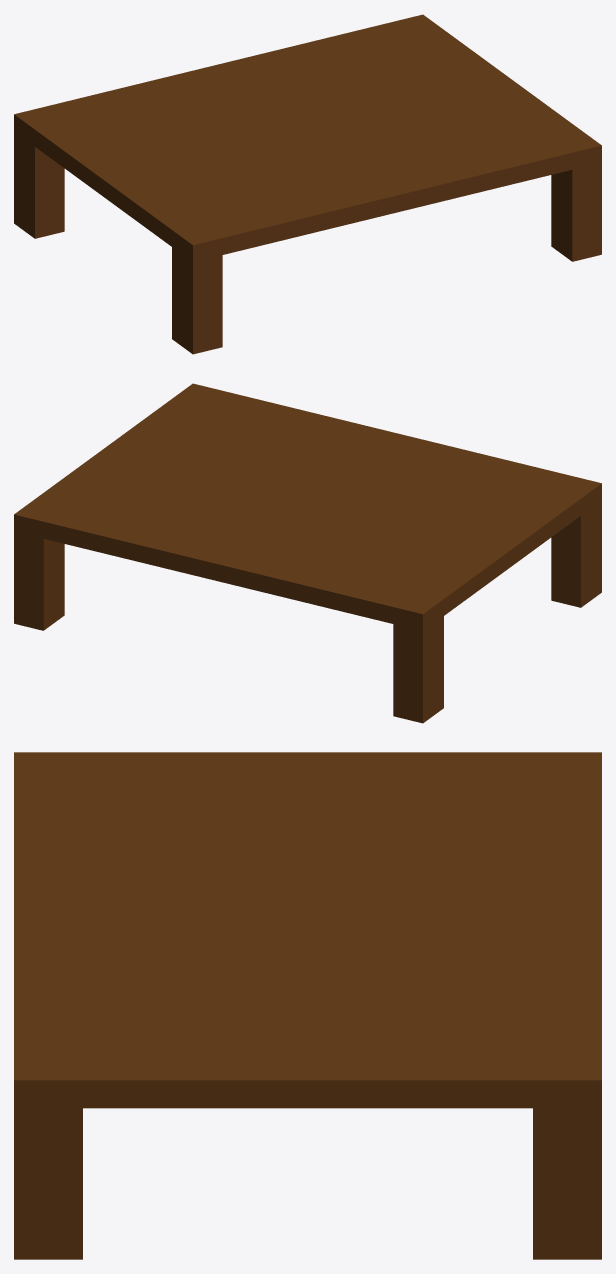
The model's file is bigtable.fbx.
3 renders of one model, top to bottom at view 1: azimuth 30°, elevation 25°; view 2: azimuth 150°, elevation 25°; view 3: azimuth 270°, elevation 25°, orthographic. The views are drawn at different scales.
Visible parts, largest first — view 1: Box008; view 2: Box008; view 3: Box008.
Boxes of the visible parts, x1,y1,x2,y2 form: Box008: (14,14,601,354); Box008: (14,383,601,723); Box008: (14,752,601,1259).
Bounding box in the file's own units: 55.57 × 14.18 × 42.11.
